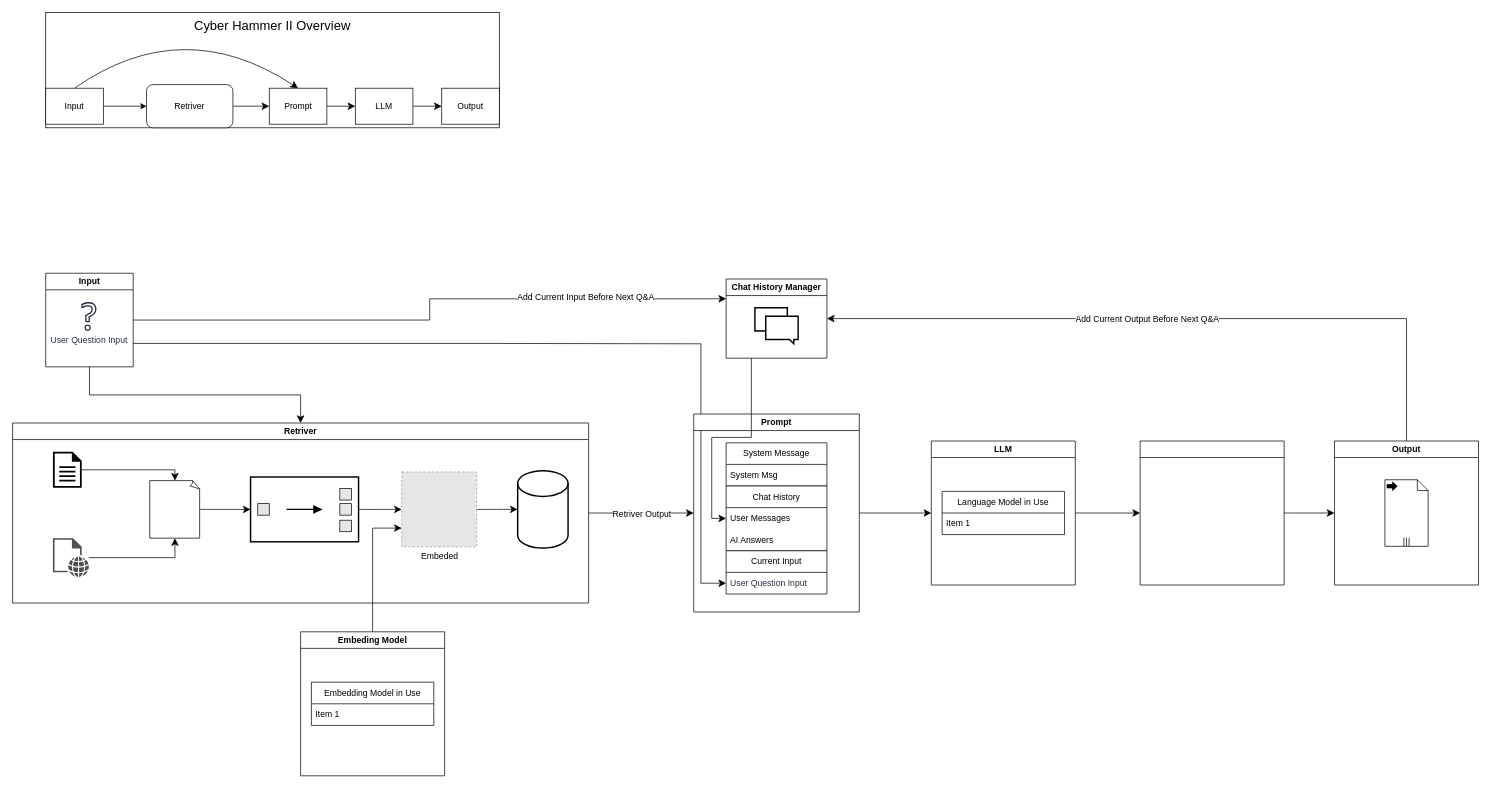
This 1491x788 diagram has some shape labels left out. Grey dashed boxes stand in for pictures. Each missing label, with the centre of its shape:
ChromaDB Storage: pixel 542 509
Output Parser: pixel 1211 512
PDF/DOC/TXT/MarkDown: pixel 67 469
Read Parse to String: pixel 174 509
Split: pixel 304 509
Web Page: pixel 71 557
